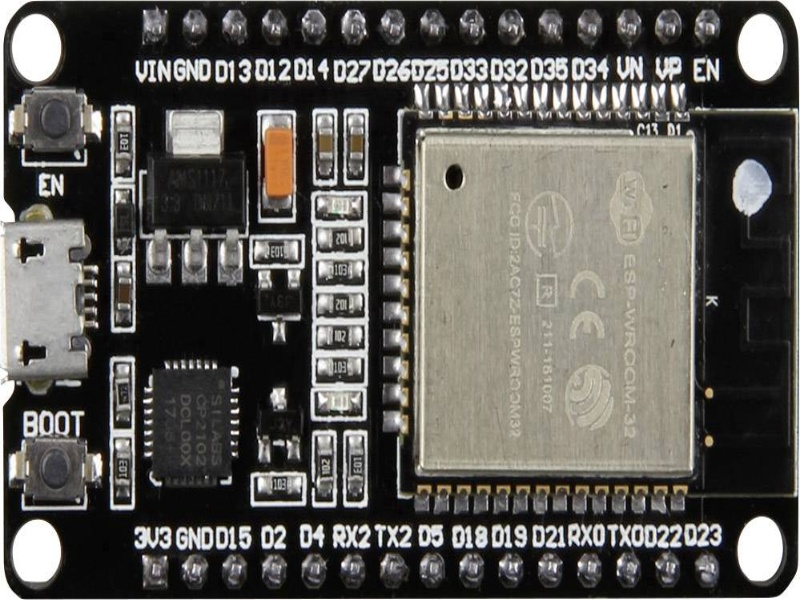esp32: (1, 3, 799, 600)
